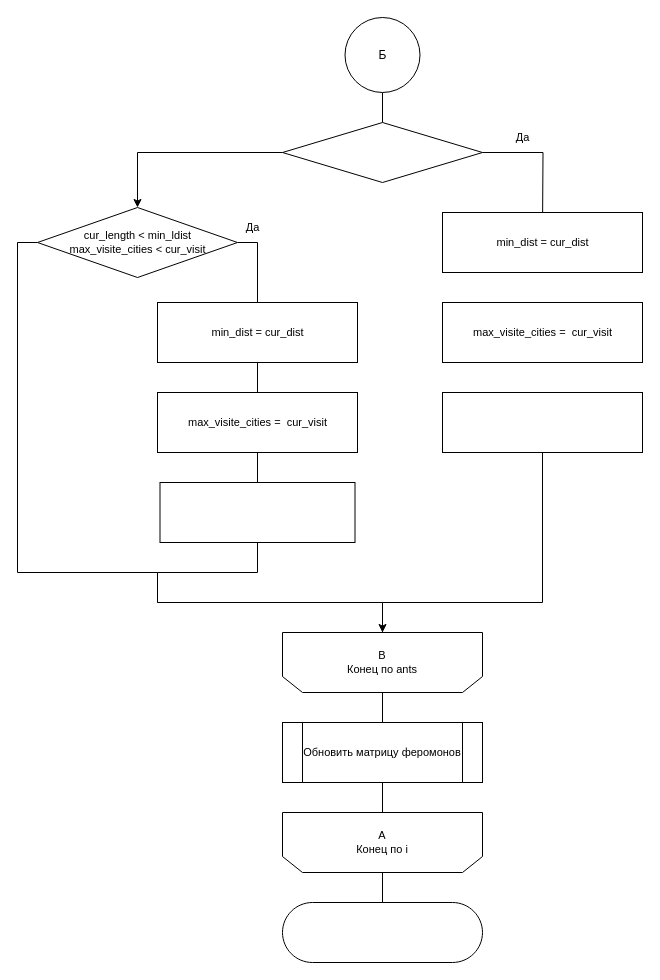
The diagram is 660 pixels wide and 980 high, and some of its shapes have lost their labels. The centre of each missing label's shape, as x and y in pixels:
"best_way = visited[ant]" belongs at (x=542, y=422).
"best_way = visited[ant][:cur-visit]" belongs at (x=257, y=512).
"cur_length < min_length flag = 0" belongs at (x=382, y=152).
"Конец" belongs at (x=382, y=932).
